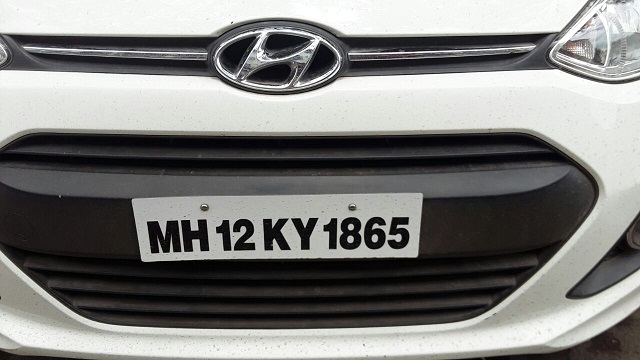licenseplate: (128, 194, 428, 260)
